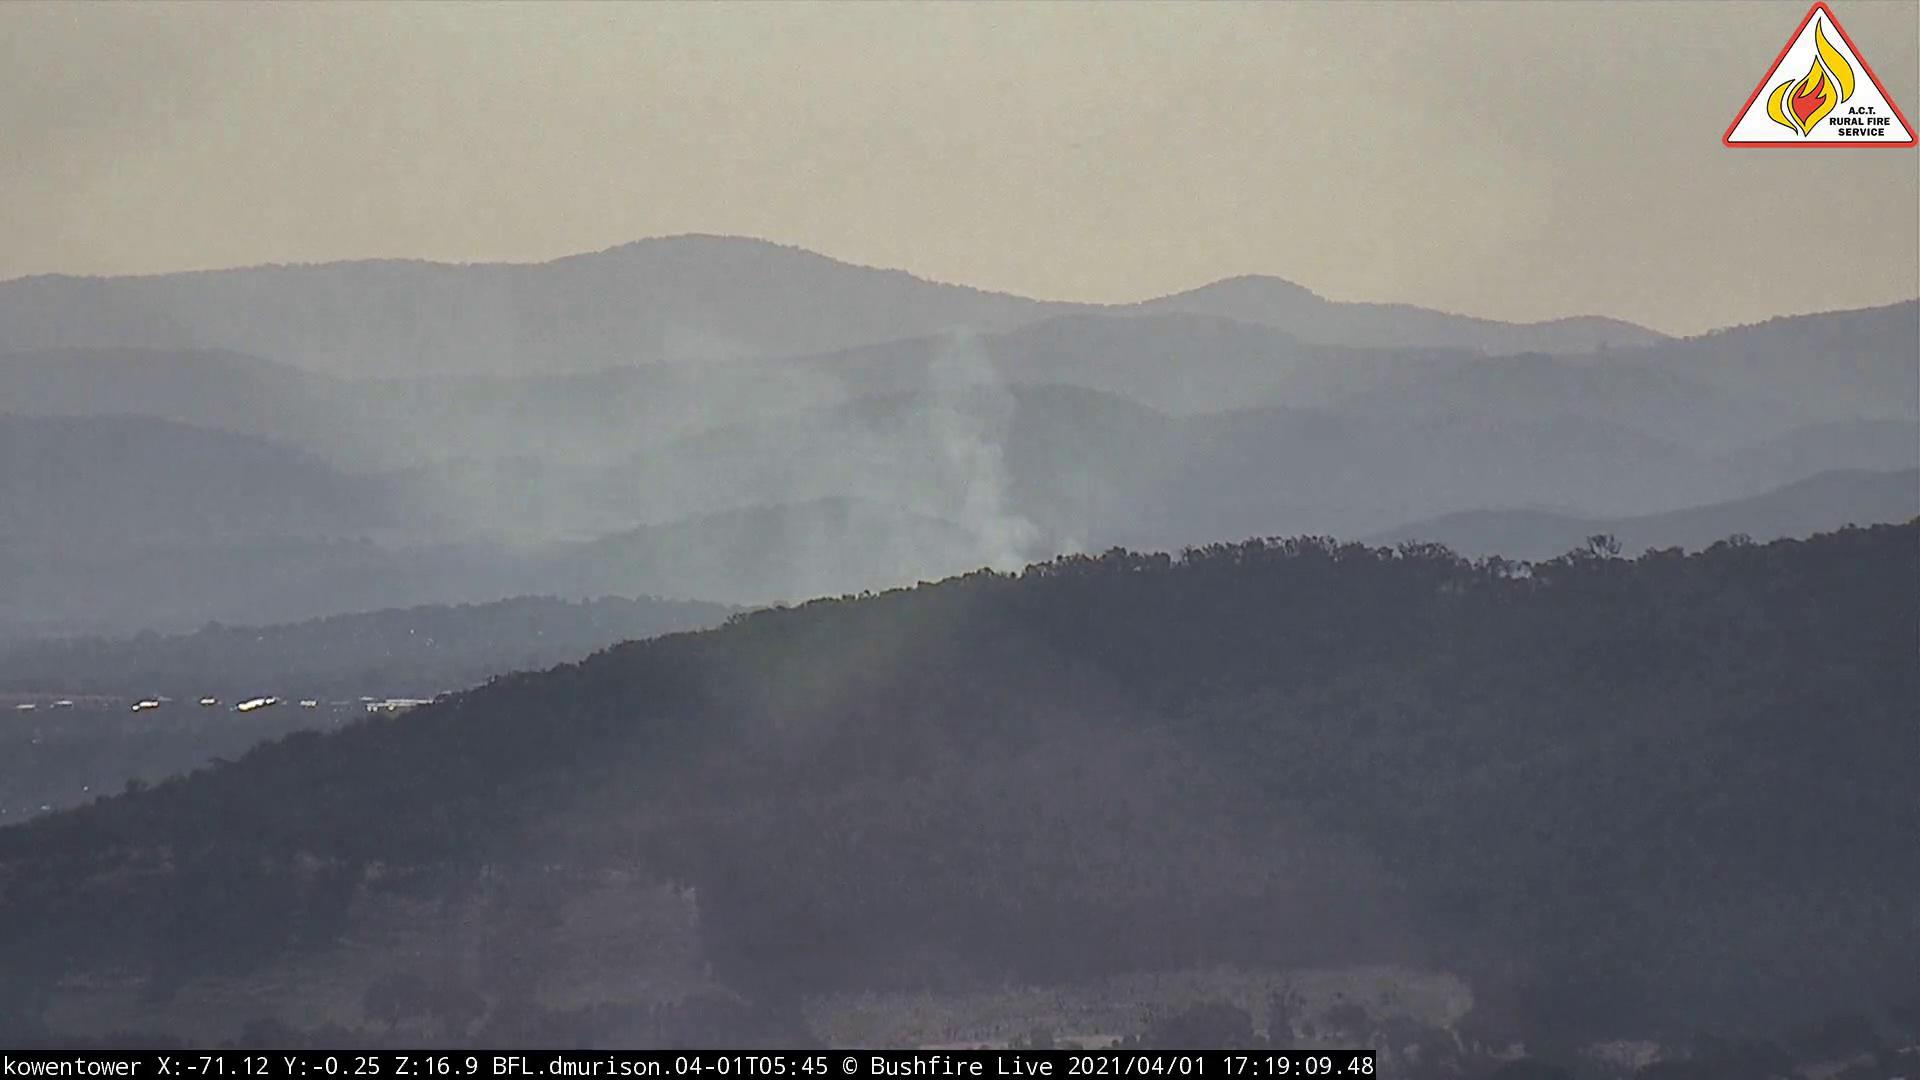Smoke: (324, 276, 1060, 651)
